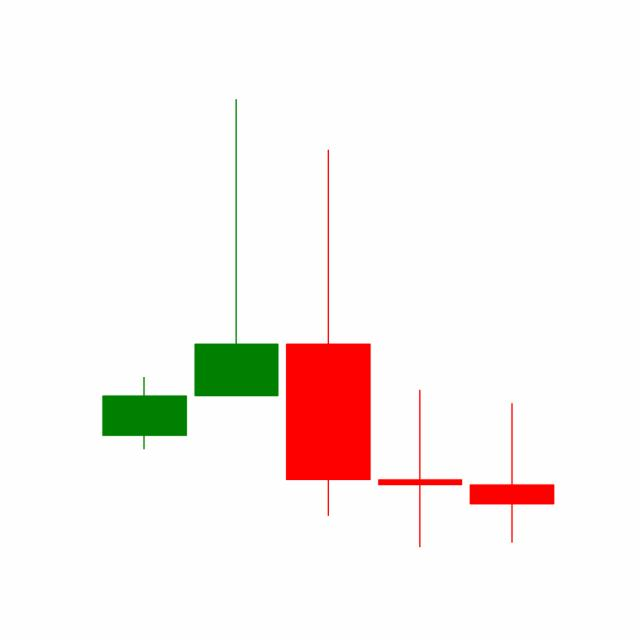Spinning Top: (373, 388, 467, 549)
